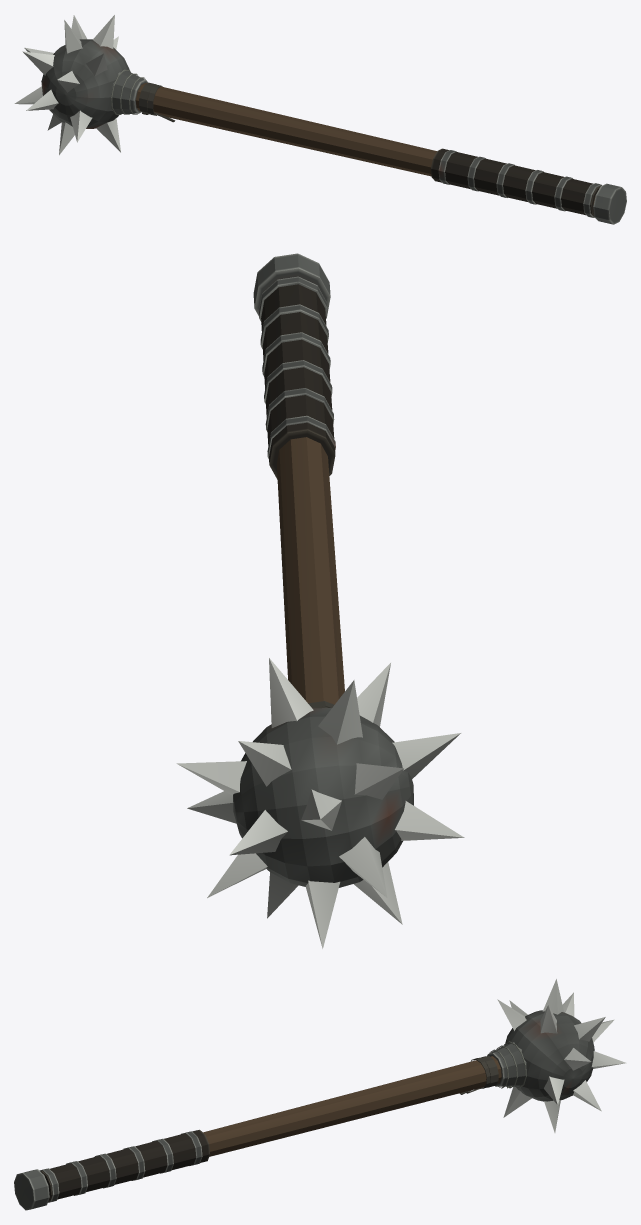
Rendered from morningstar.glb.
3 views of the same model, one above another, from view 1: azimuth 30°, elevation 25°; view 2: azimuth 150°, elevation 25°; view 3: azimuth 270°, elevation 25° (orthographic). The views are drawn at different scales.
Parts seen in each view (by area): view 1: hammerStrikeFrame, hammerHead, maceSpike (×7), maceCollar, frissonWeaponDress; view 2: hammerStrikeFrame, maceSpike (×14), hammerHead; view 3: hammerStrikeFrame, hammerHead, maceSpike (×9), maceCollar, frissonWeaponDress.
Part boxes in pixels (bbox=[...]): hammerStrikeFrame: bbox=[135, 83, 626, 224]; hammerHead: bbox=[41, 39, 129, 128]; maceSpike (×7): bbox=[22, 15, 120, 155]; maceCollar: bbox=[111, 71, 148, 113]; frissonWeaponDress: bbox=[111, 69, 175, 122]; hammerStrikeFrame: bbox=[253, 253, 344, 704]; maceSpike (×14): bbox=[176, 658, 464, 948]; hammerHead: bbox=[233, 708, 413, 887]; hammerStrikeFrame: bbox=[14, 1056, 501, 1210]; hammerHead: bbox=[505, 1010, 594, 1101]; maceSpike (×9): bbox=[497, 979, 626, 1117]; maceCollar: bbox=[487, 1042, 526, 1086]; frissonWeaponDress: bbox=[459, 1041, 526, 1094].
Size of the model in its own units: 0.8053 by 0.2852 by 1.19.
